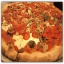pizza: (3, 6, 64, 58)
